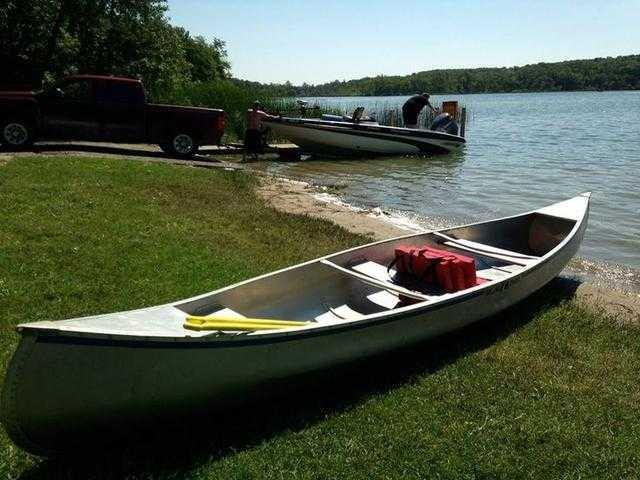kayak: (6, 192, 606, 433), (259, 108, 466, 158)
